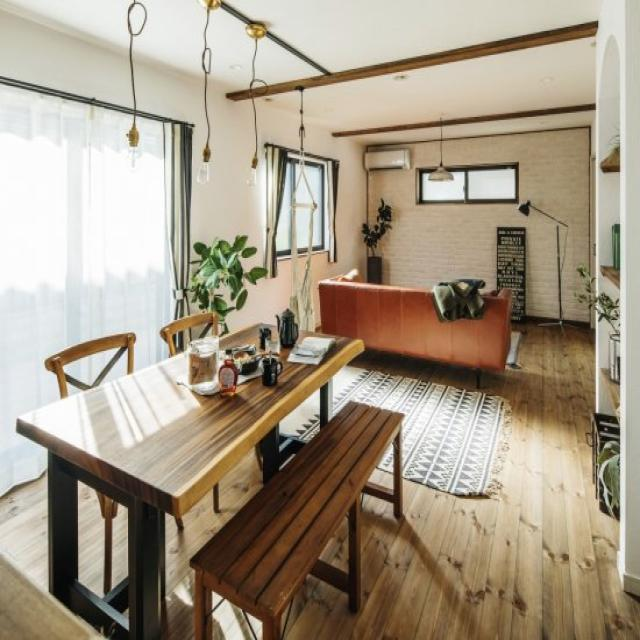vintage chair: (192, 402, 407, 640)
vintage desk: (22, 318, 364, 503)
vintage sofa: (321, 265, 513, 391)
